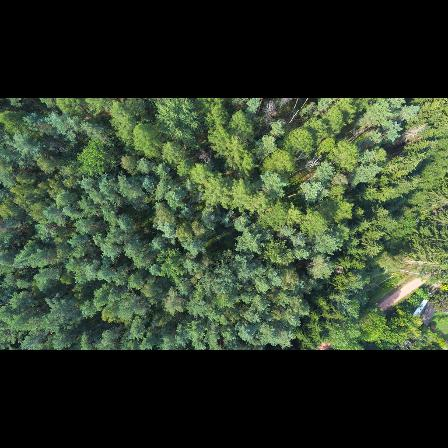Dead: (402, 120, 427, 140), (261, 99, 280, 122), (303, 153, 323, 173), (198, 149, 214, 168)
